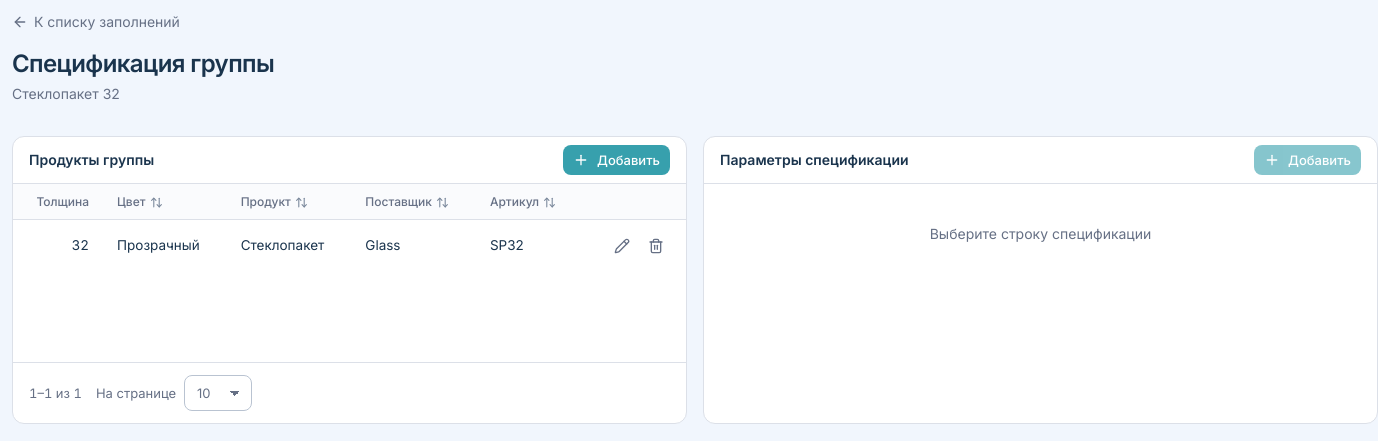
Test case: A filling group’s specification › shows the group’s products, and a chosen one’s parameters
Check: the text "Стеклопакет 32" is shown, box [12,85,120,102]
Check: the text "Выберите строку спецификации" is shown, box [930,225,1151,242]
Click the row "32 Прозрачный Стеклопакет Glass SP32" at (158, 245), box [13,220,686,272]
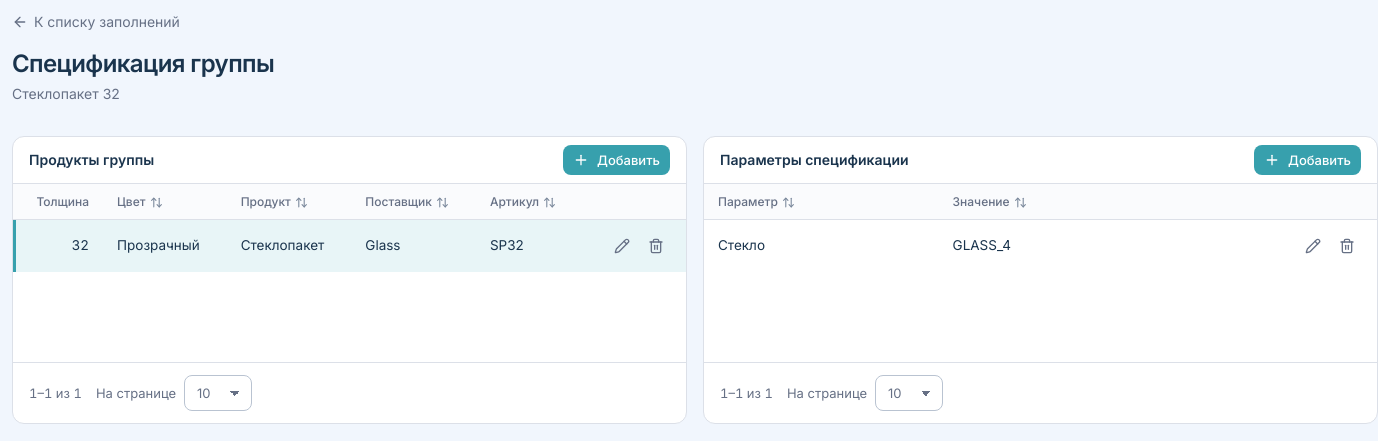
Check: the text "GLASS_4" is shown, box [939,220,1167,272]
